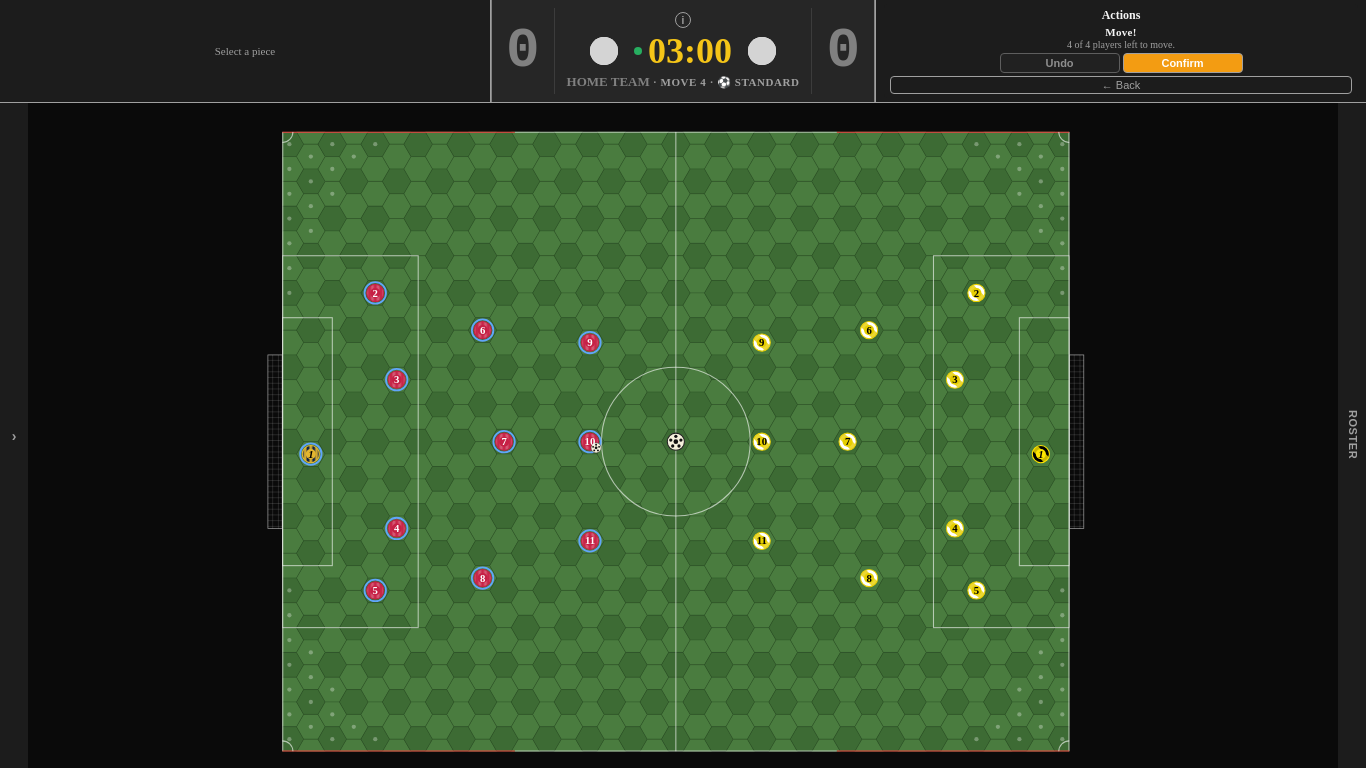
Test case: GameBoard — 45-05-02: scoreboard (i) icon and modal mount › closes the modal when the footer Close button is clicked
Click the button titled "View match summary": (683, 20) [675, 12, 691, 28]
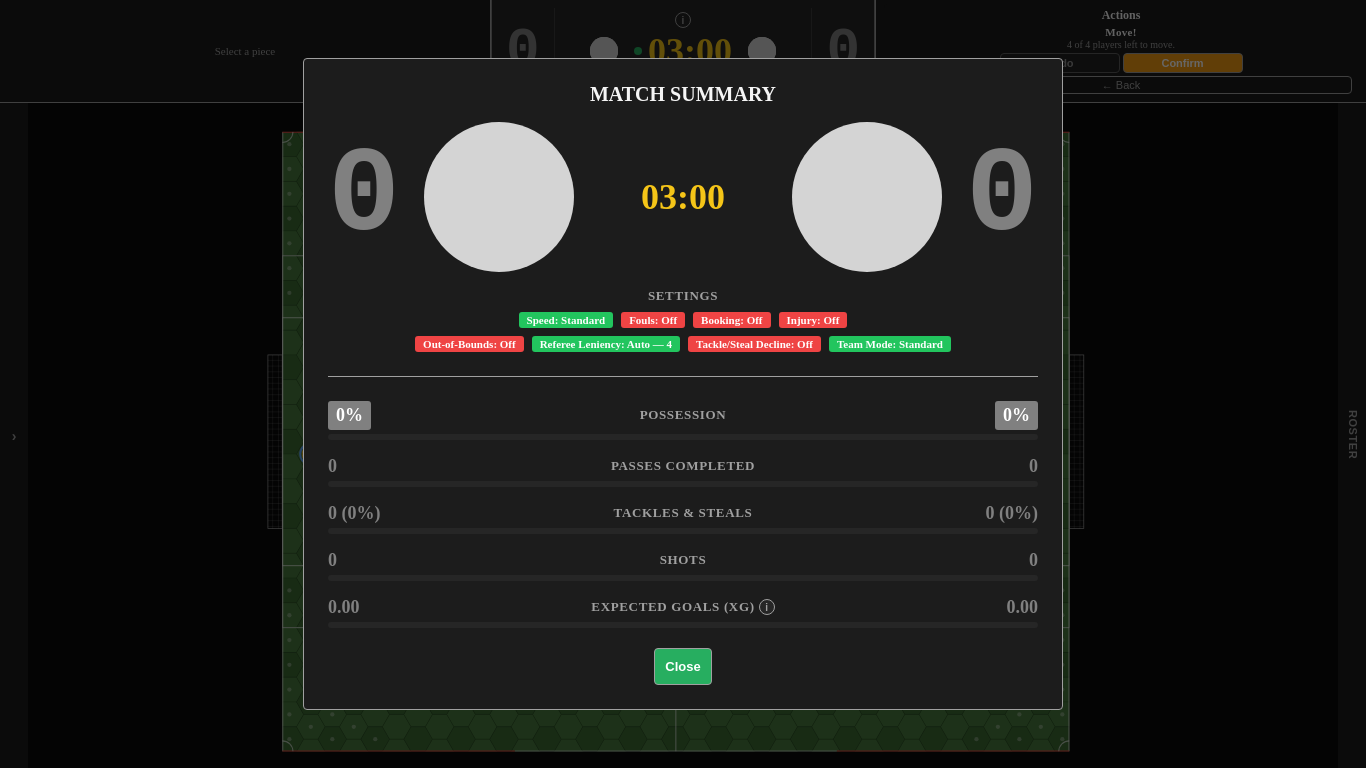
Check: the text "MATCH SUMMARY" is shown, box [590, 83, 776, 106]
Click the button "Close": (683, 667) [654, 648, 712, 685]
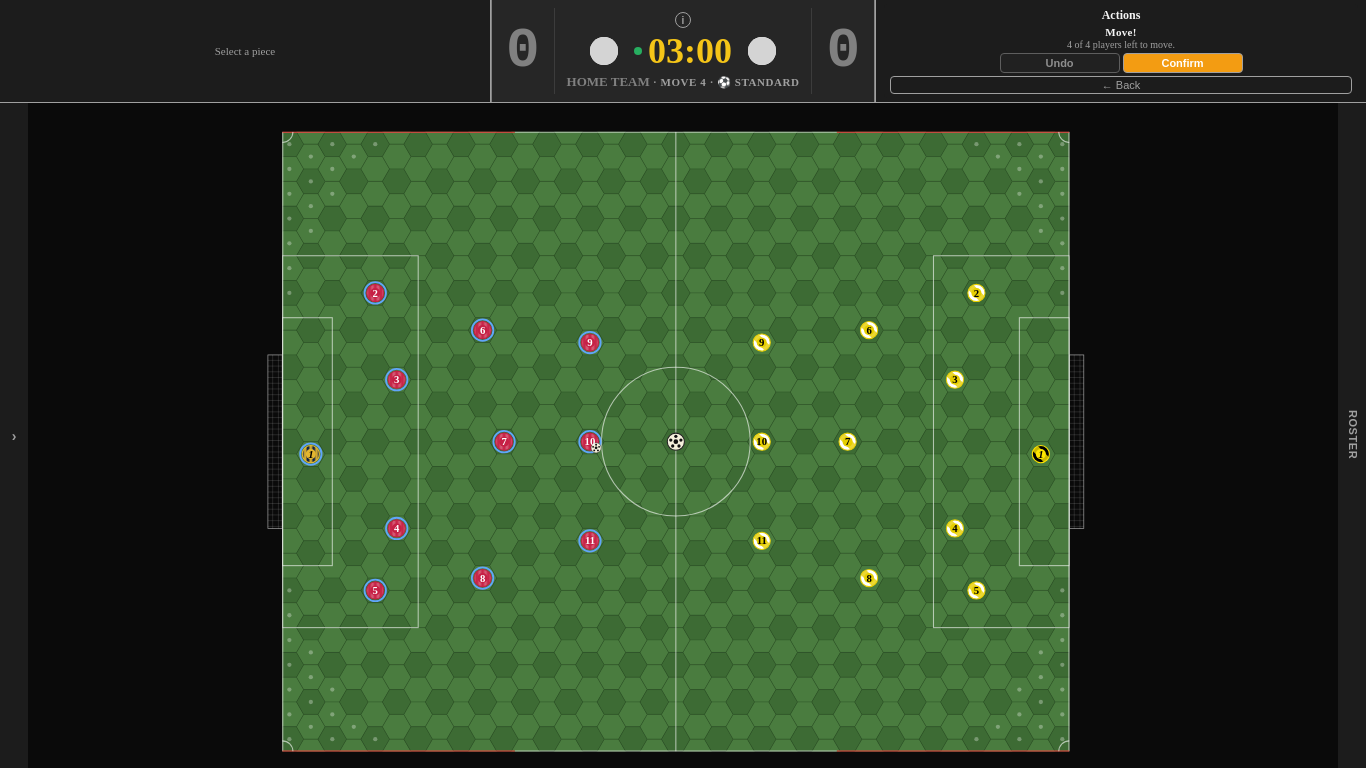
Check: the text "MATCH SUMMARY" is gone
